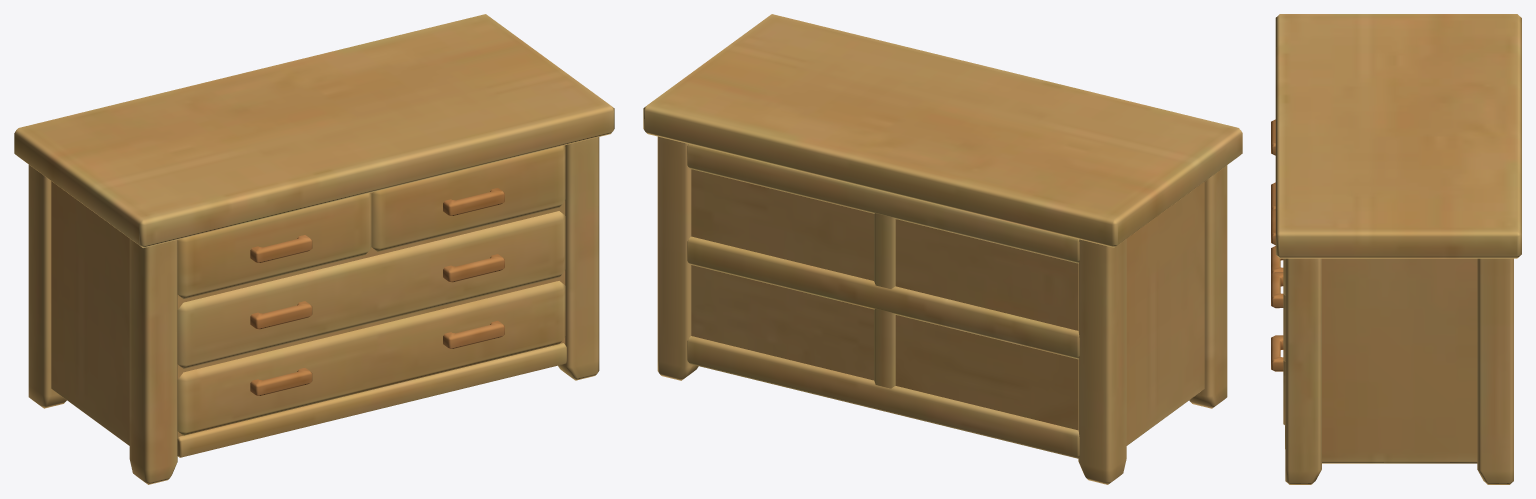
3 views of the same model, side by side, from view 1: azimuth 30°, elevation 25°; view 2: azimuth 150°, elevation 25°; view 3: azimuth 270°, elevation 25° (orthographic). The views are drawn at different scales.
Size of the model in its own units: 16.66 by 9.1 by 7.99.
1 material, 1 textured.
